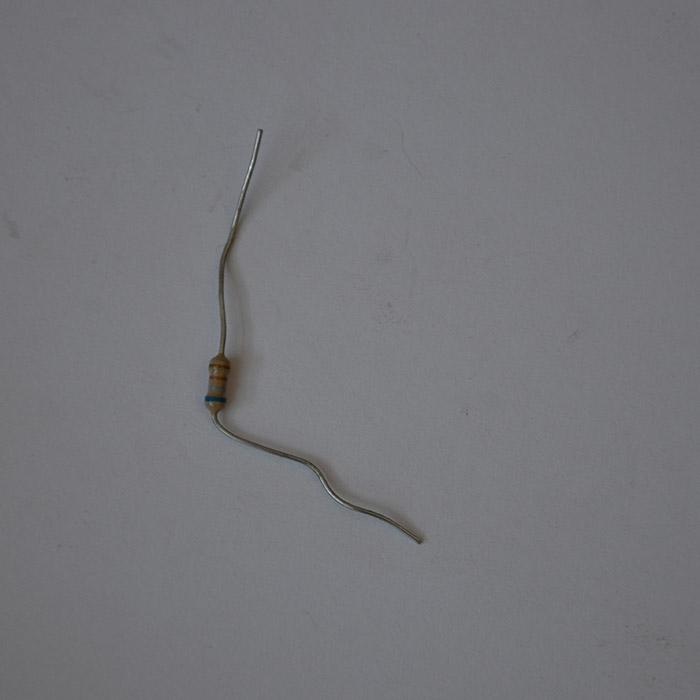resistor: (204, 354, 231, 412)
